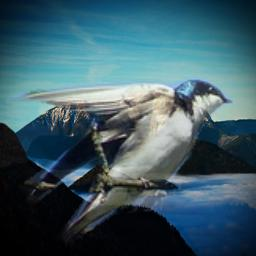Swallow: (7, 75, 234, 248)
